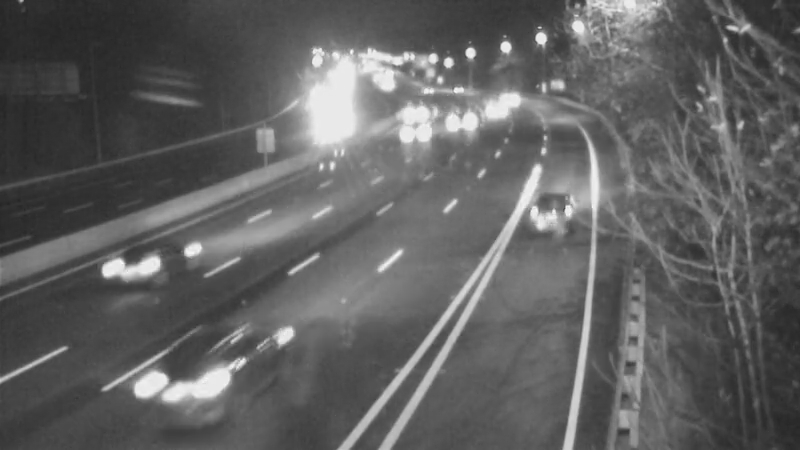vehicle: (117, 338, 227, 448), (528, 170, 608, 250), (95, 231, 175, 311), (400, 63, 450, 113), (479, 73, 529, 123), (462, 80, 512, 130), (390, 79, 440, 129), (432, 93, 482, 143), (387, 111, 437, 161), (305, 94, 355, 144)
